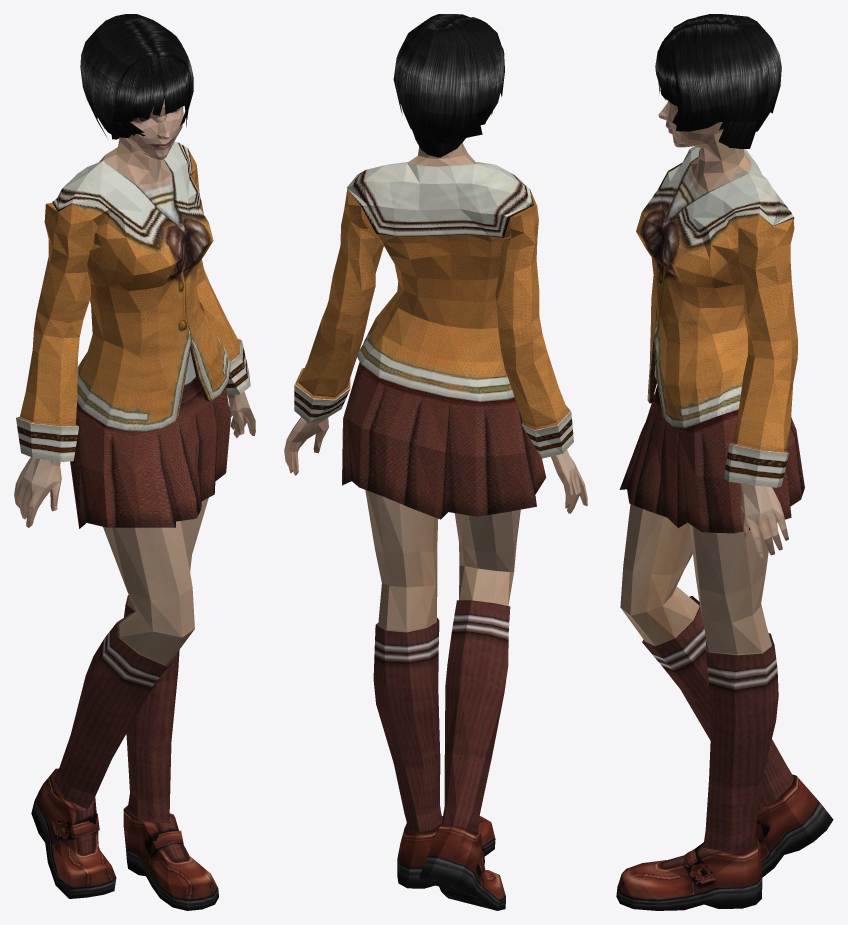
Rendered from woman.gltf.
The picture shows the model from 3 angles, left to right: view 1: azimuth 30°, elevation 25°; view 2: azimuth 150°, elevation 25°; view 3: azimuth 270°, elevation 25°; orthographic projection.
Bounding box in the file's own units: 0.7941 × 2.5 × 0.5587.
5 materials, 5 textured.
